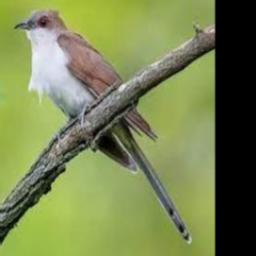Cuckoo: (14, 8, 191, 242)
